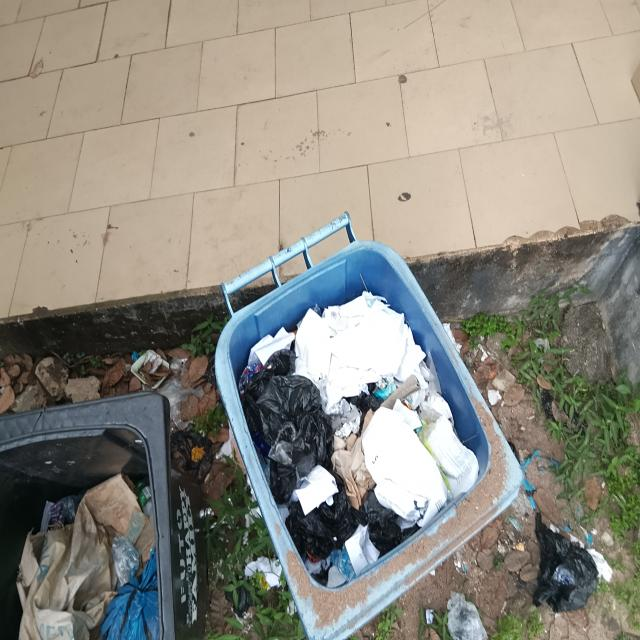full: (226, 242, 508, 614)
half-full: (1, 392, 183, 640)
